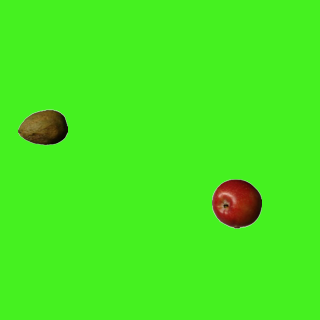Apple Braeburn: (211, 178, 261, 228)
Papaya: (17, 102, 67, 152)
